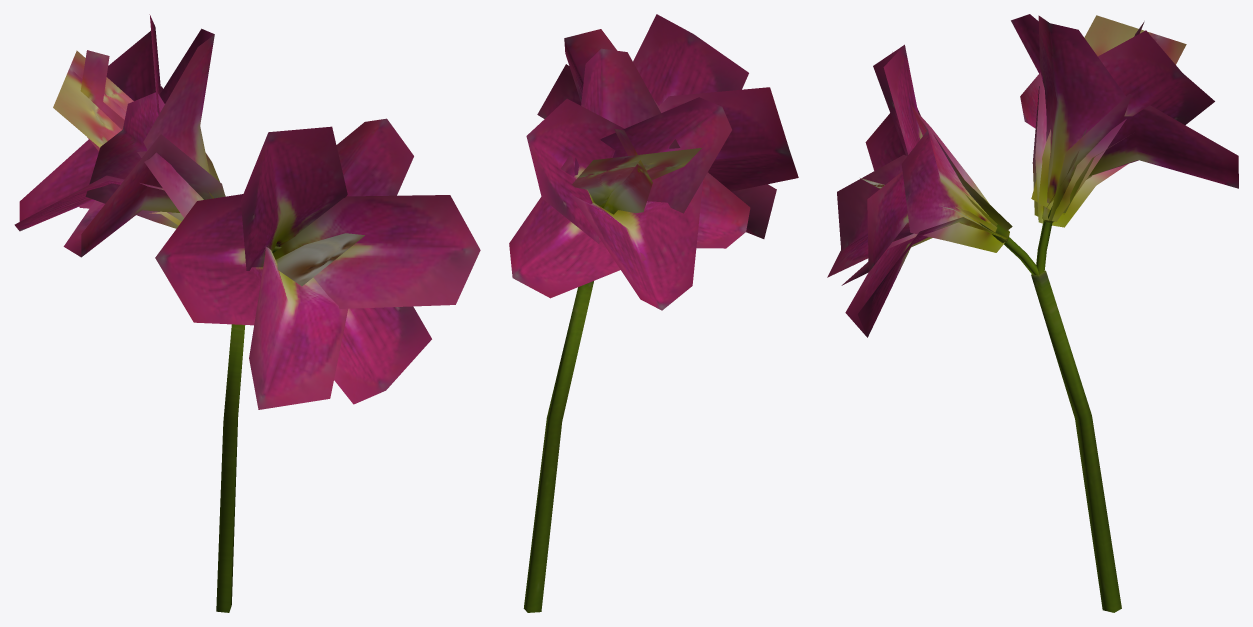
File: Amaryllis_baby_short_pink.glb
The picture shows the model from 3 angles, left to right: view 1: azimuth 30°, elevation 25°; view 2: azimuth 150°, elevation 25°; view 3: azimuth 270°, elevation 25°; orthographic projection. The views are drawn at different scales.
Parts seen in each view (by area): view 1: baby; view 2: baby; view 3: baby.
Boxes of the visible parts, <box> form: baby: <box>14,14,480,612</box>; baby: <box>509,14,798,612</box>; baby: <box>827,14,1238,612</box>.
Size of the model in its own units: 0.6819 by 1.24 by 0.8184.
1 material, 1 textured.
